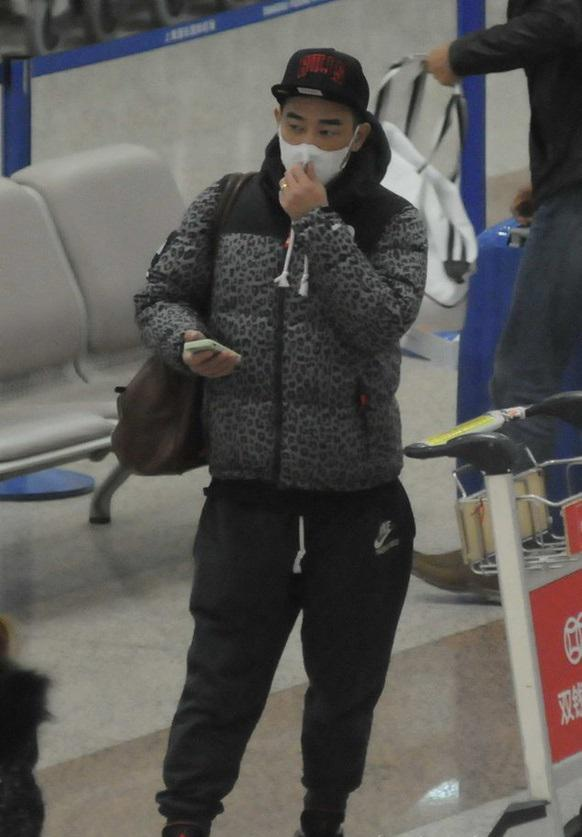OK: (276, 105, 356, 185)
